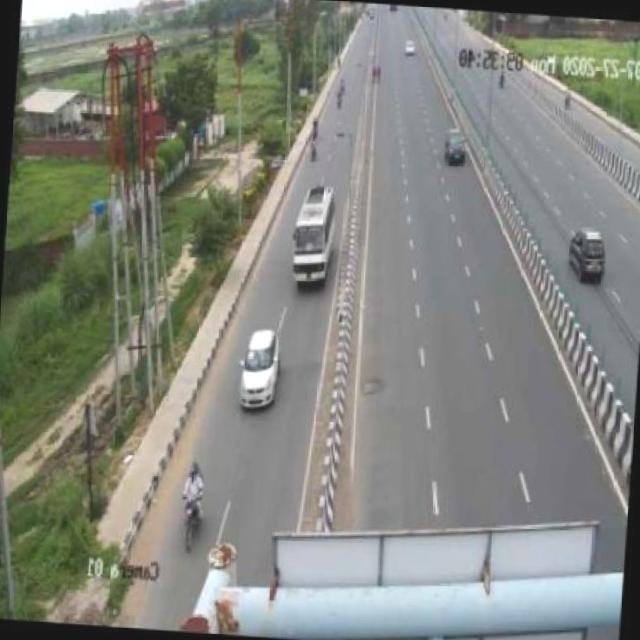car: (238, 328, 281, 411), (560, 220, 610, 288), (432, 121, 472, 168)
